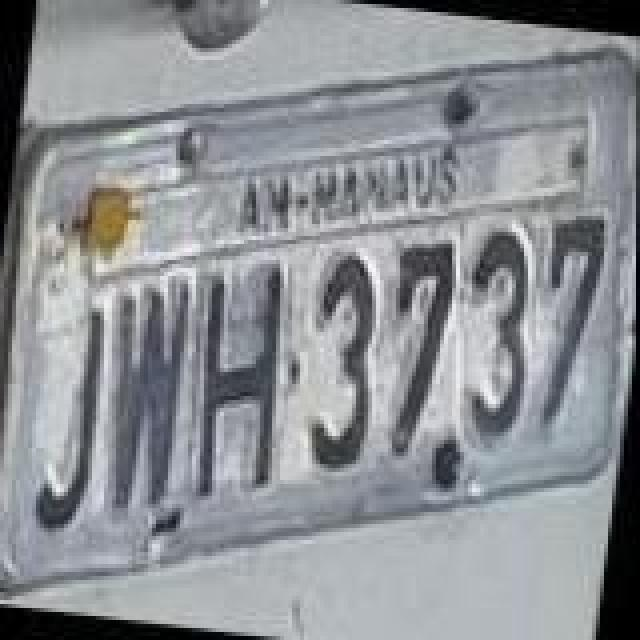3: (298, 246, 398, 474), (450, 224, 550, 448)
7: (372, 232, 468, 464), (524, 206, 612, 434)
H: (184, 256, 304, 512)
J: (30, 296, 114, 536)
W: (92, 266, 204, 518)
